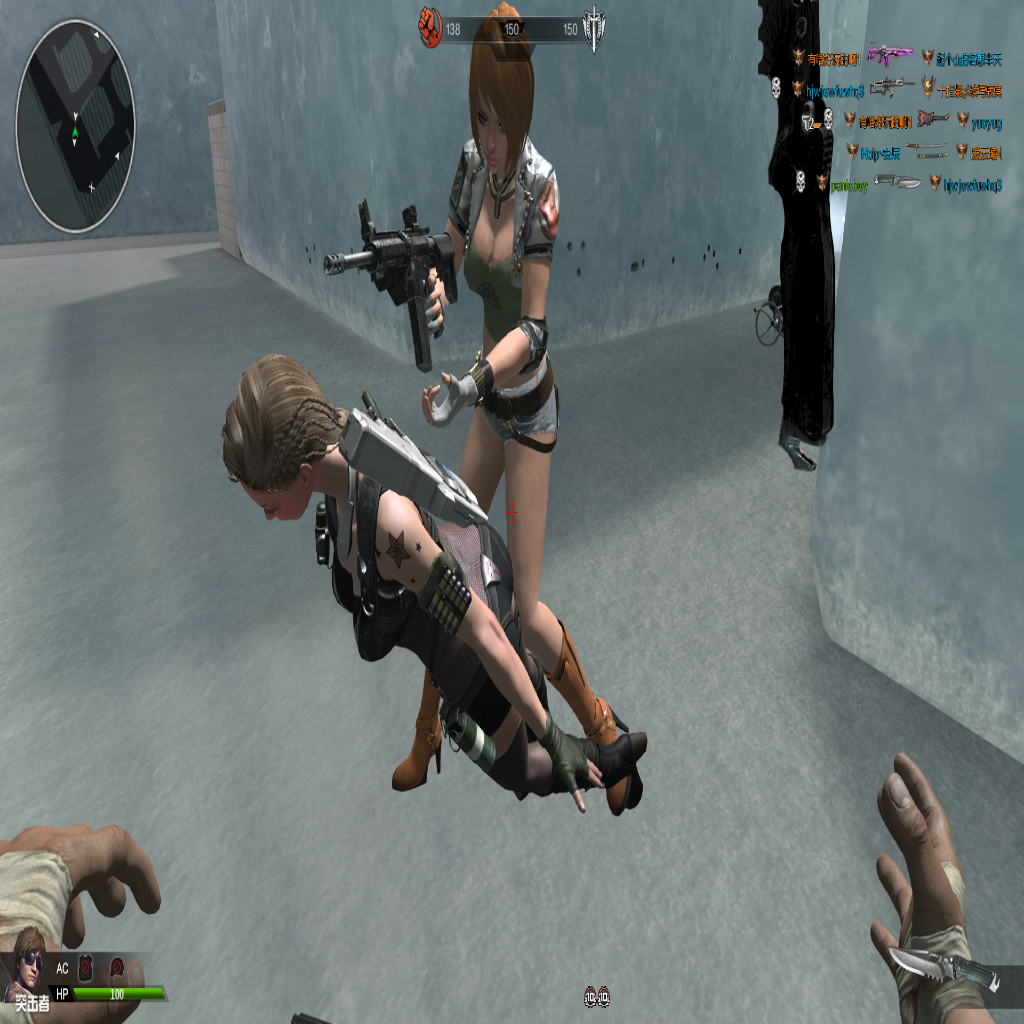tt: (389, 0, 606, 787)
